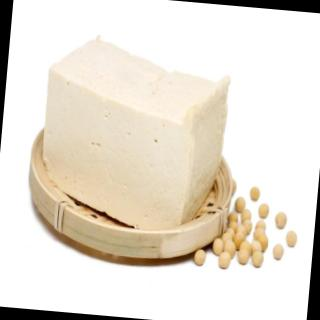Tahu: (14, 20, 258, 242)
